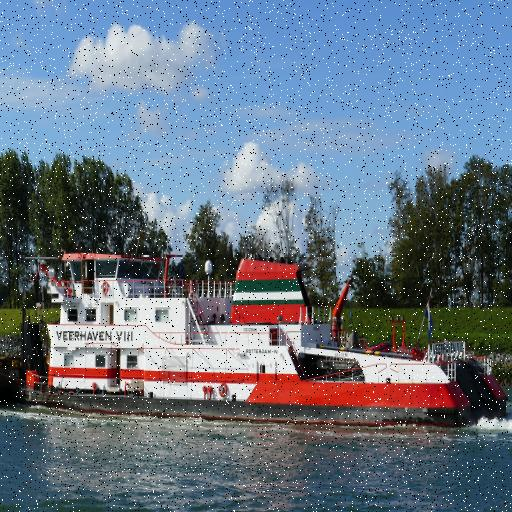tugboat: (18, 226, 512, 455)
